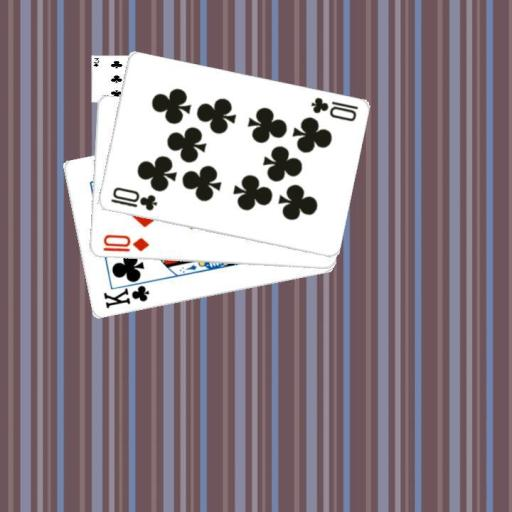10C: (307, 94, 359, 124), (108, 184, 159, 213)
10D: (100, 232, 150, 254)
KC: (100, 277, 153, 310)
